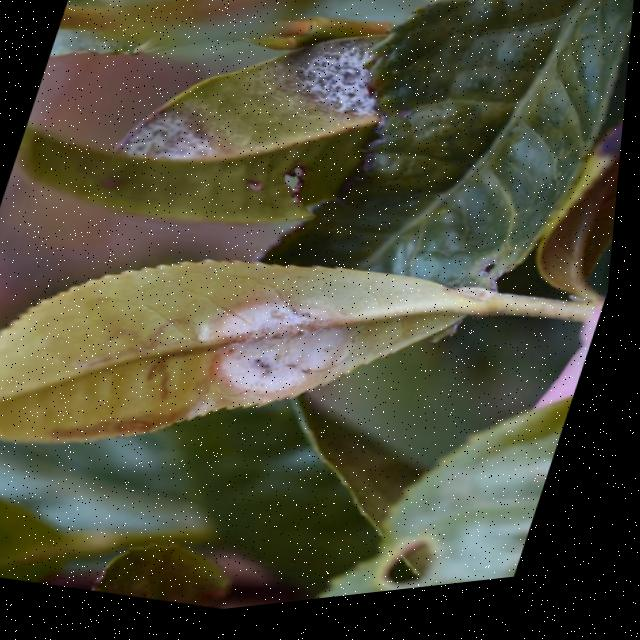Tea cake: (191, 264, 371, 421)
